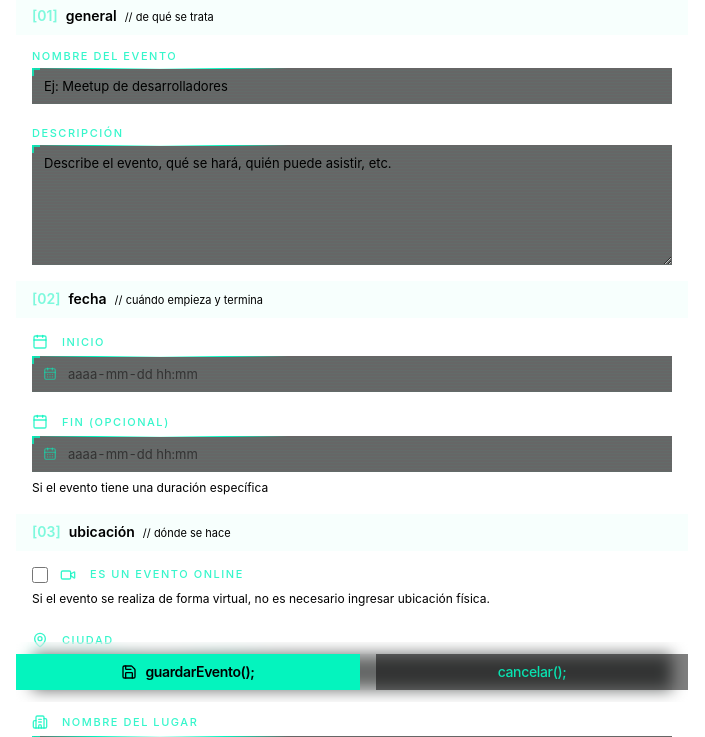
Test case: EventForm › shows validation messages and does not submit an empty in-person event
Click the button "guardarEvento();".
click(188, 672)  # box [16,654,360,690]
(page scrolled)
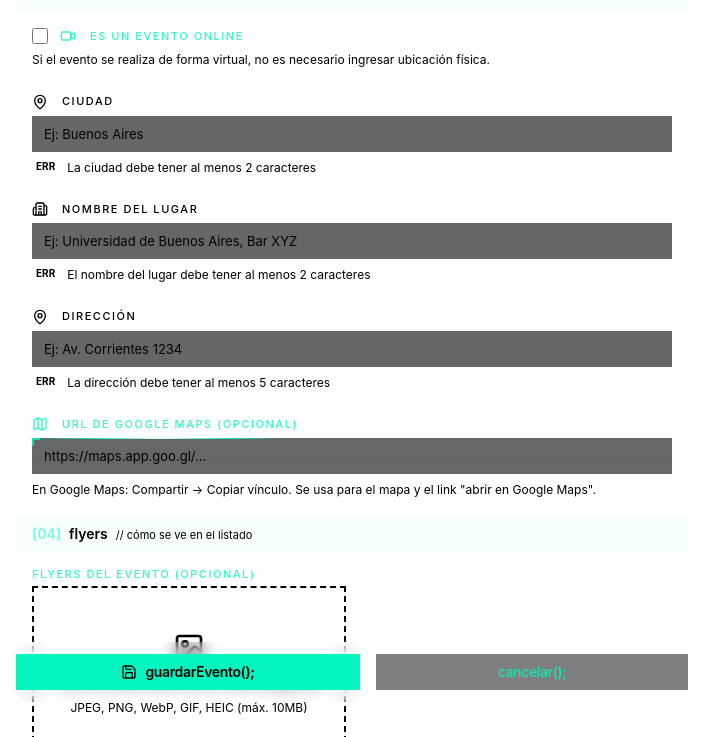
Expected: the text "La ciudad debe tener al menos 2 caracteres" is shown, [67,158,316,177]
Expected: the text "El nombre del lugar debe tener al menos 2 caracteres" is shown, [67,265,370,284]
Expected: the text "La dirección debe tener al menos 5 caracteres" is shown, [67,372,330,392]
